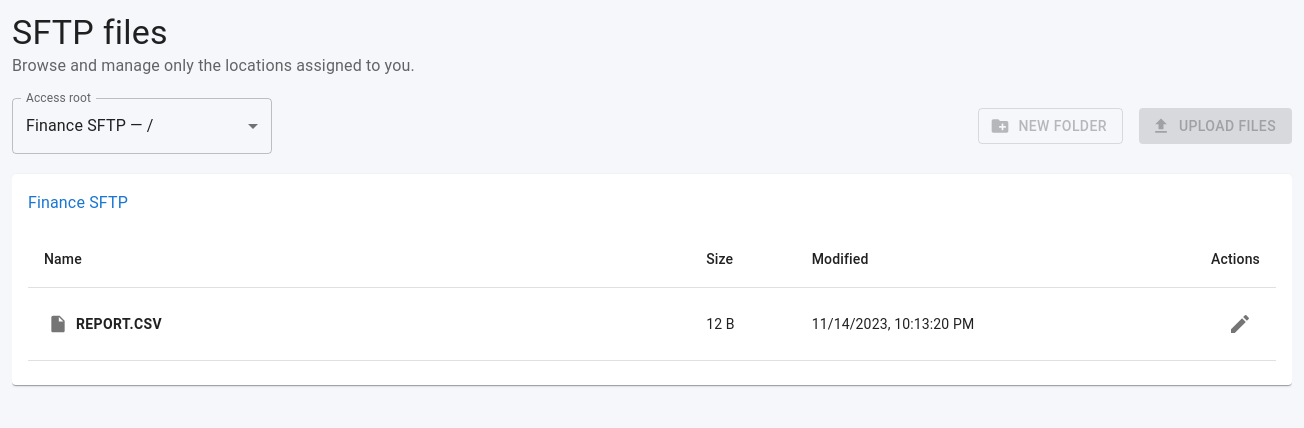
Test: inline file and folder rename › keeps a readable API error with the active inline editor
This screenshot has width=1304, height=428.
Click the button named "Rename report.csv". click: [1240, 324]
box: [1220, 304, 1260, 344]
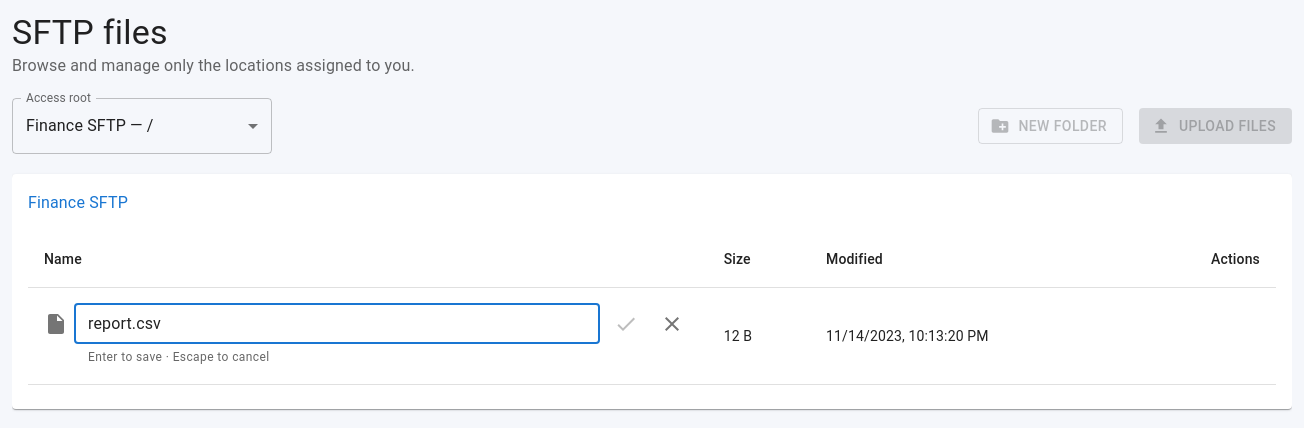
Replace the text in the field named "New name for report.csv" with "existing.csv". click: [337, 324]
box: [74, 304, 600, 344]
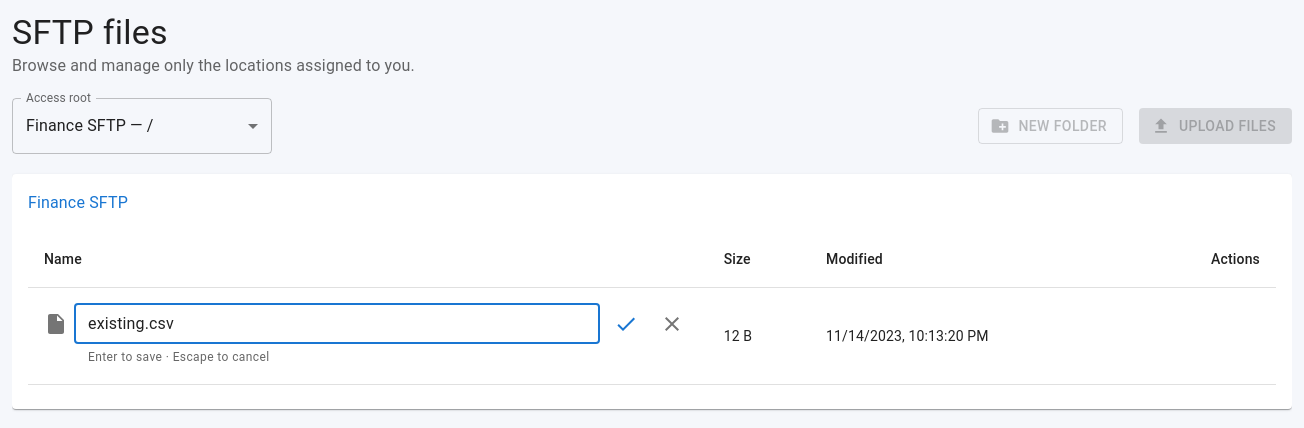
Press Enter in the field named "New name for report.csv", box [74, 304, 600, 344]
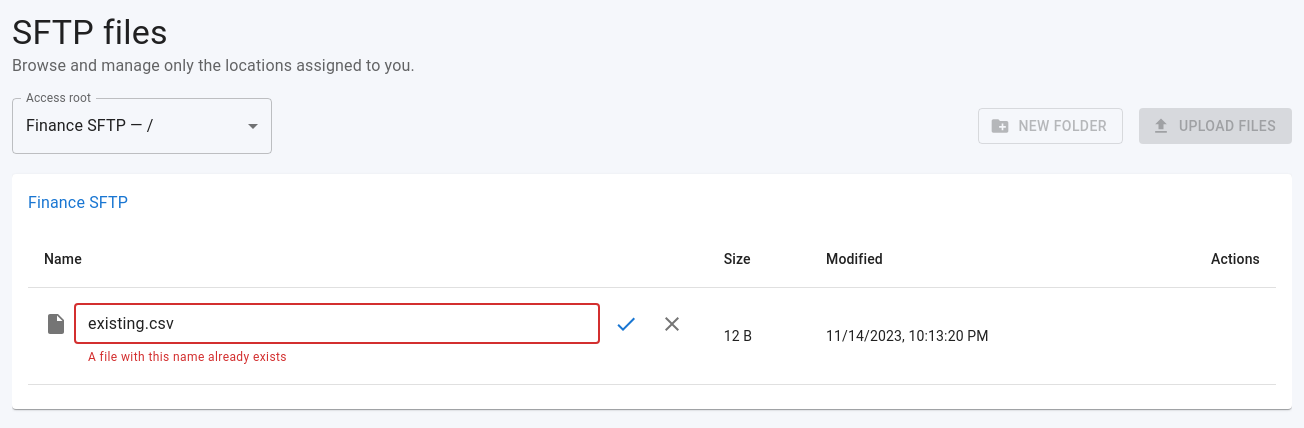
Check: the text "A file with this name already exists" is shown, box [88, 350, 287, 364]
